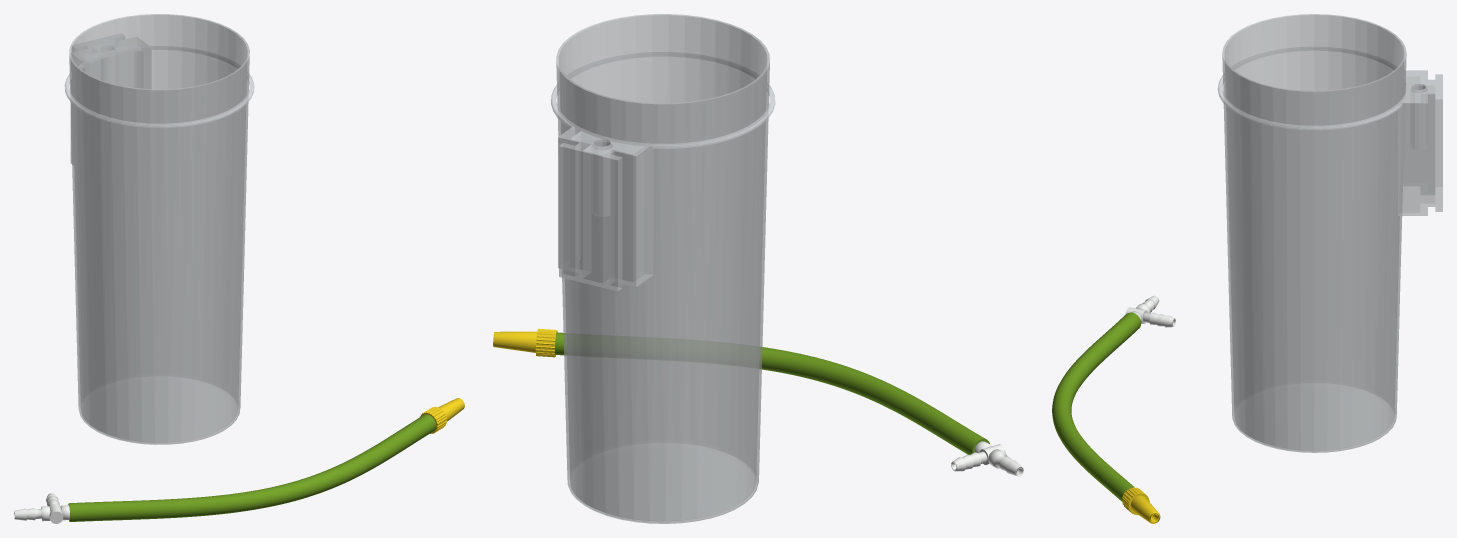
File: p05-2l-set.glb
The picture shows the model from 3 angles, left to right: view 1: azimuth 30°, elevation 25°; view 2: azimuth 150°, elevation 25°; view 3: azimuth 270°, elevation 25°; orthographic projection. The views are drawn at different scales.
Visible parts, largest first — view 1: vessel, silicone-hose-13x7, collar-mount; view 2: vessel, collar-mount, silicone-hose-13x7, yellow-connector-2; view 3: vessel, collar-mount, silicone-hose-13x7, yellow-connector-2.
Part boxes in pixels (bbox=[...]): vessel: bbox=[69, 14, 249, 444]; silicone-hose-13x7: bbox=[69, 414, 436, 521]; collar-mount: bbox=[64, 34, 254, 164]; vessel: bbox=[556, 14, 769, 523]; collar-mount: bbox=[551, 52, 775, 291]; silicone-hose-13x7: bbox=[555, 332, 985, 454]; yellow-connector-2: bbox=[493, 331, 536, 352]; vessel: bbox=[1222, 14, 1406, 452]; collar-mount: bbox=[1217, 47, 1442, 215]; silicone-hose-13x7: bbox=[1052, 312, 1141, 501]; yellow-connector-2: bbox=[1130, 495, 1160, 523].
Bounding box in the file's own units: 352 × 270 × 261.
